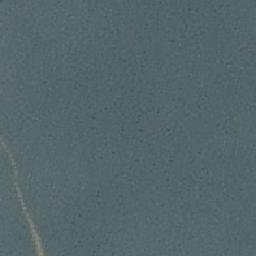debris: (24, 212, 33, 228), (17, 183, 23, 206), (32, 231, 40, 248), (12, 162, 19, 178), (3, 144, 9, 157)
